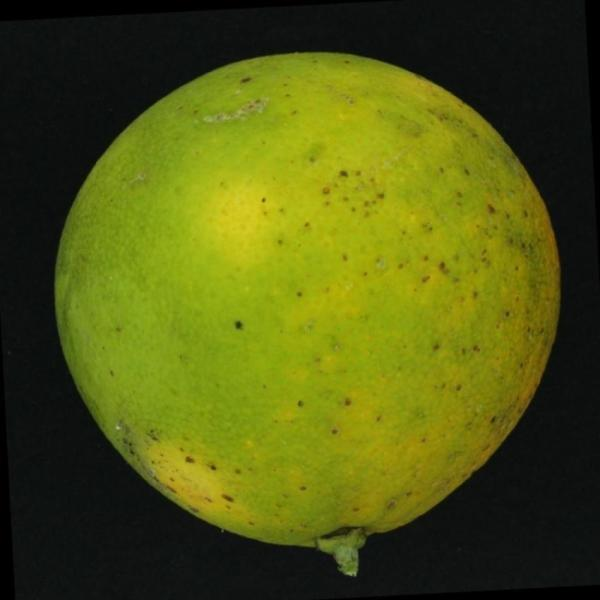Greening: (40, 42, 572, 566)
